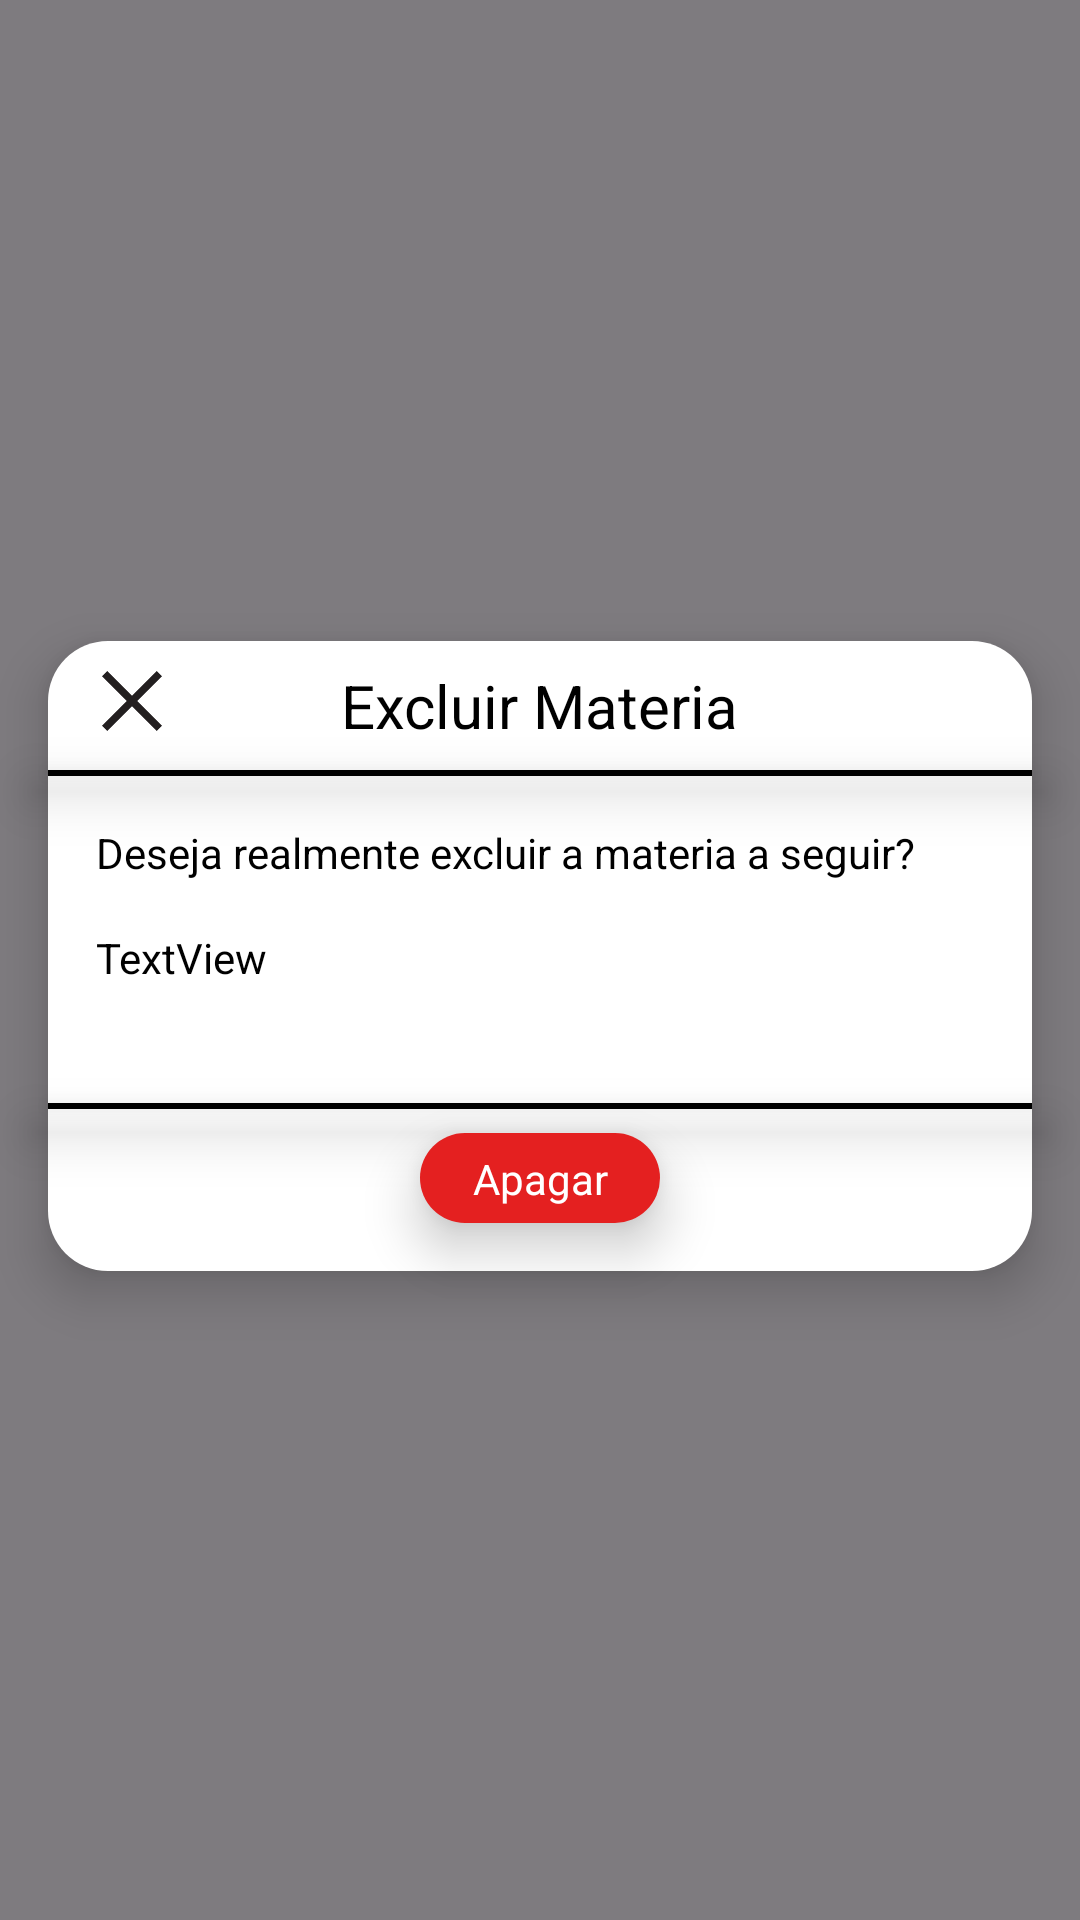

Named icons in this screenshot (1080x1920) and their bounding boxes, bbox=[x1, y1, x2, y2]:
close: bbox=[102, 671, 162, 731]
